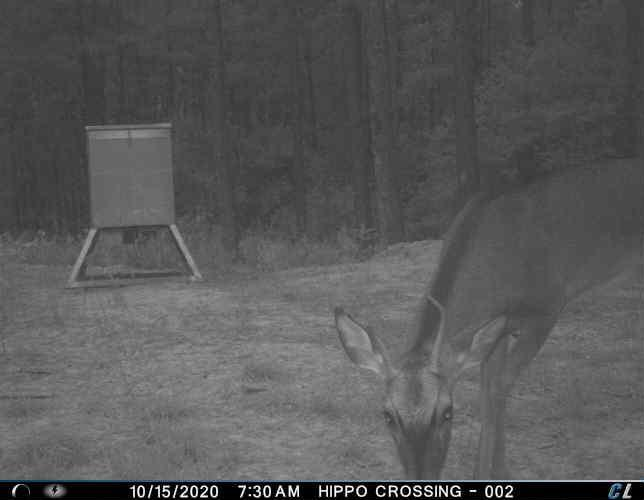Deer: (328, 146, 643, 484)
